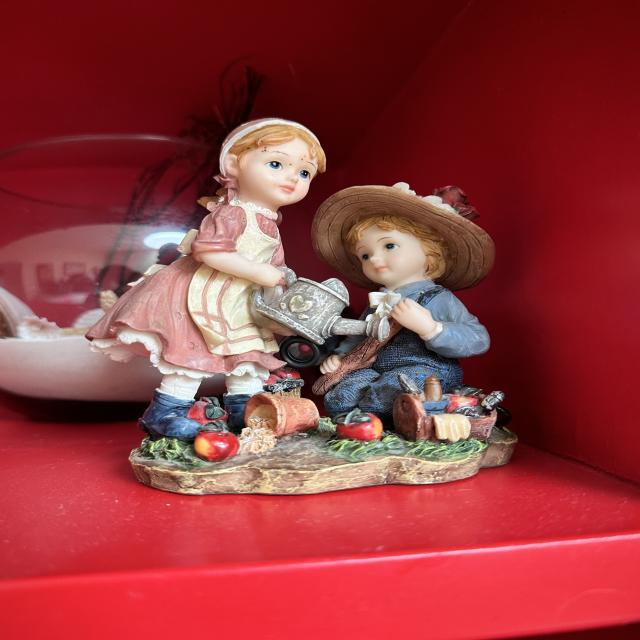hidden camera: (278, 337, 323, 370)
